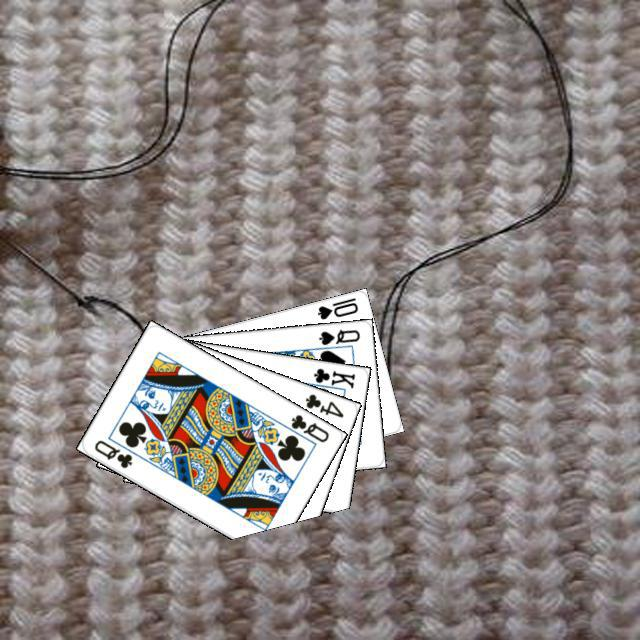10s: (312, 293, 360, 321)
4c: (300, 389, 345, 419)
Kc: (303, 363, 357, 393)
Qc: (278, 409, 331, 448), (89, 435, 134, 470)
Qs: (314, 324, 361, 346)
